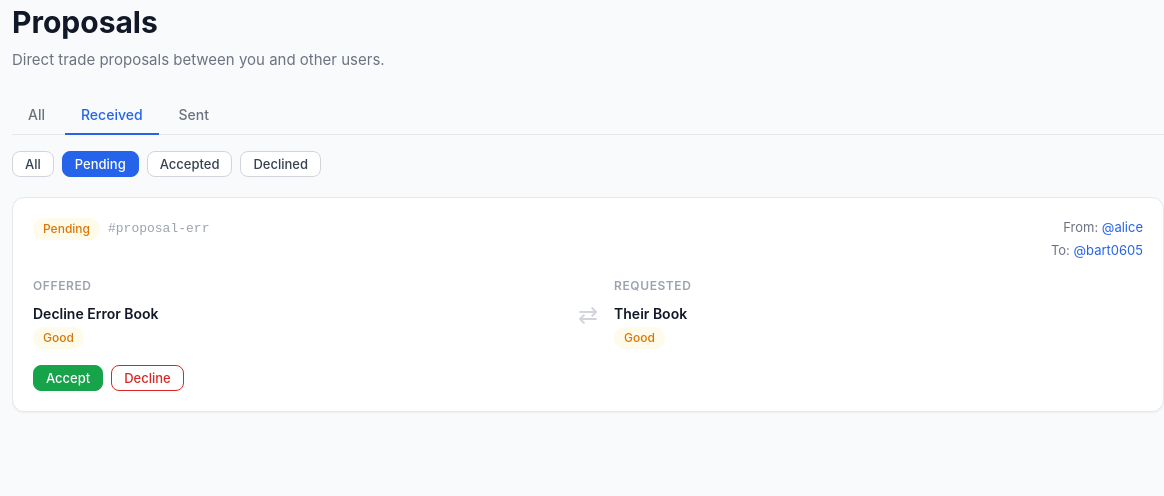
Test: Proposals page › shows action error when decline mutation fails
Click the button "Decline": coordinates (147, 378) [111, 365, 184, 391]
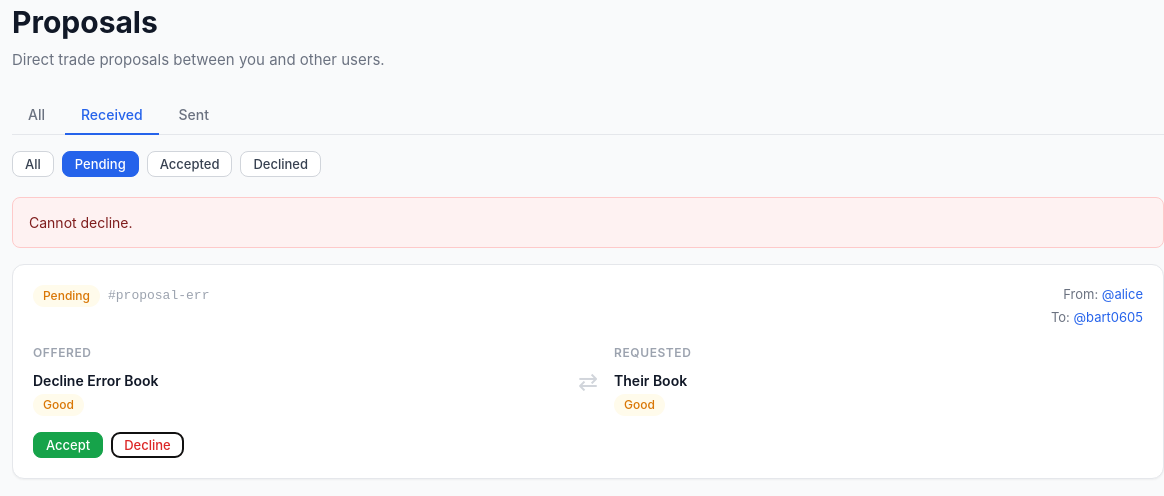
Expected: the text "Cannot decline." is shown, [12, 197, 1163, 248]
